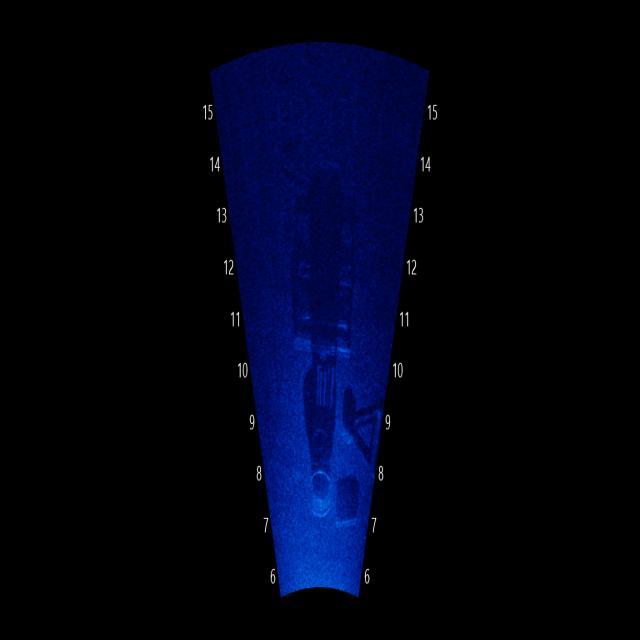circle: (298, 462, 335, 538)
square: (269, 175, 366, 366)
